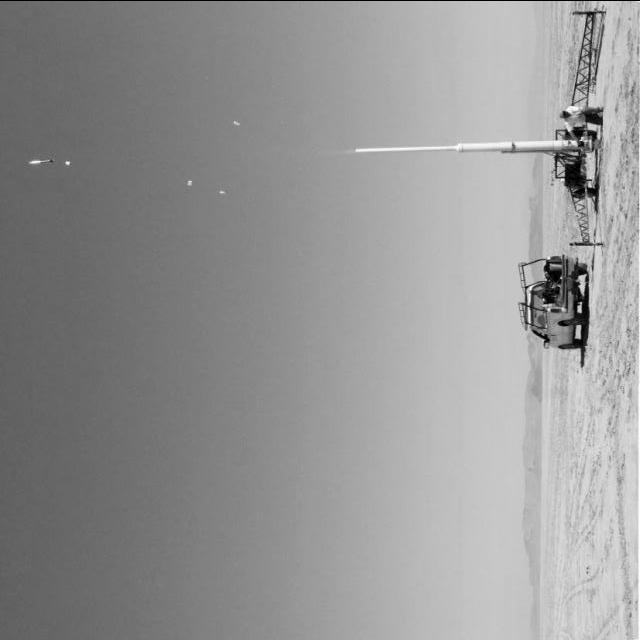missile: (452, 136, 584, 156), (22, 157, 56, 165)
